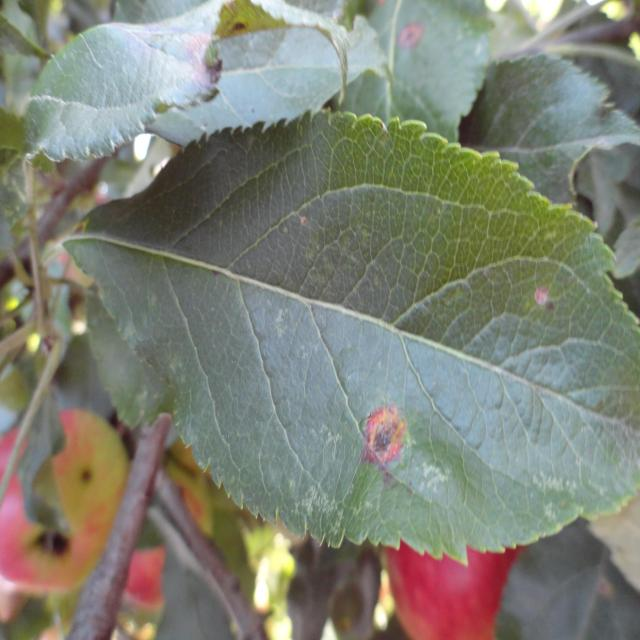Rust: (350, 392, 411, 466), (384, 17, 432, 59)
